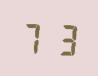seven: (19, 18, 47, 55)
three: (48, 19, 76, 56)
